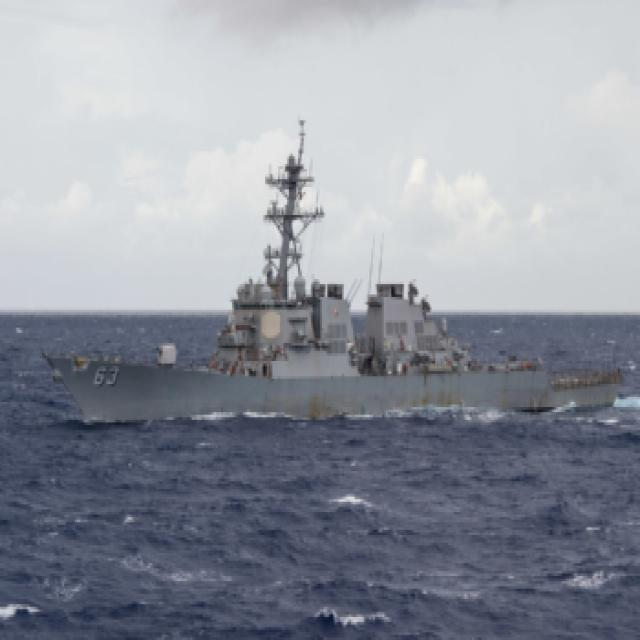navalvessels: (47, 116, 633, 433)
